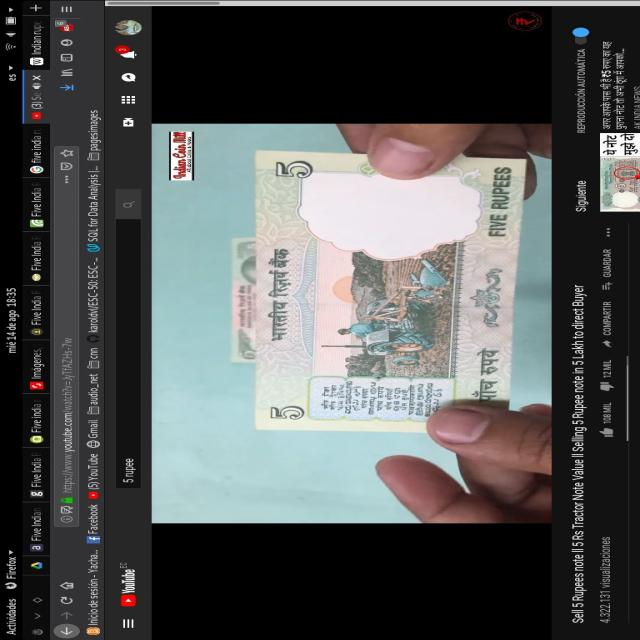5IndianRupees: (253, 150, 515, 430)
